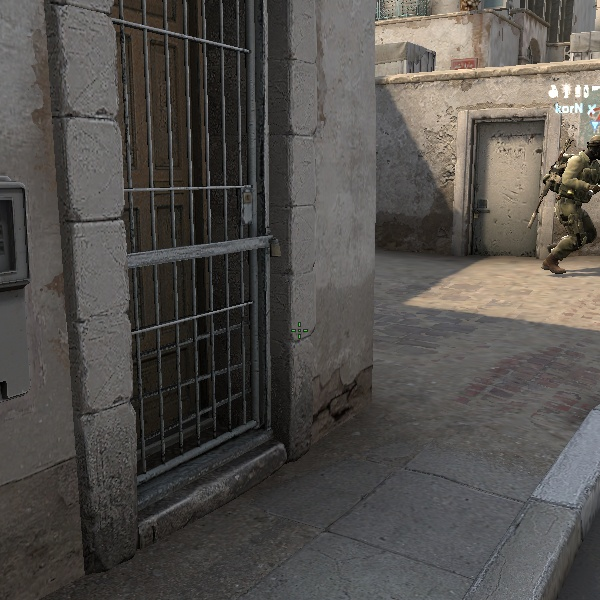ct_body: (547, 131, 596, 274)
